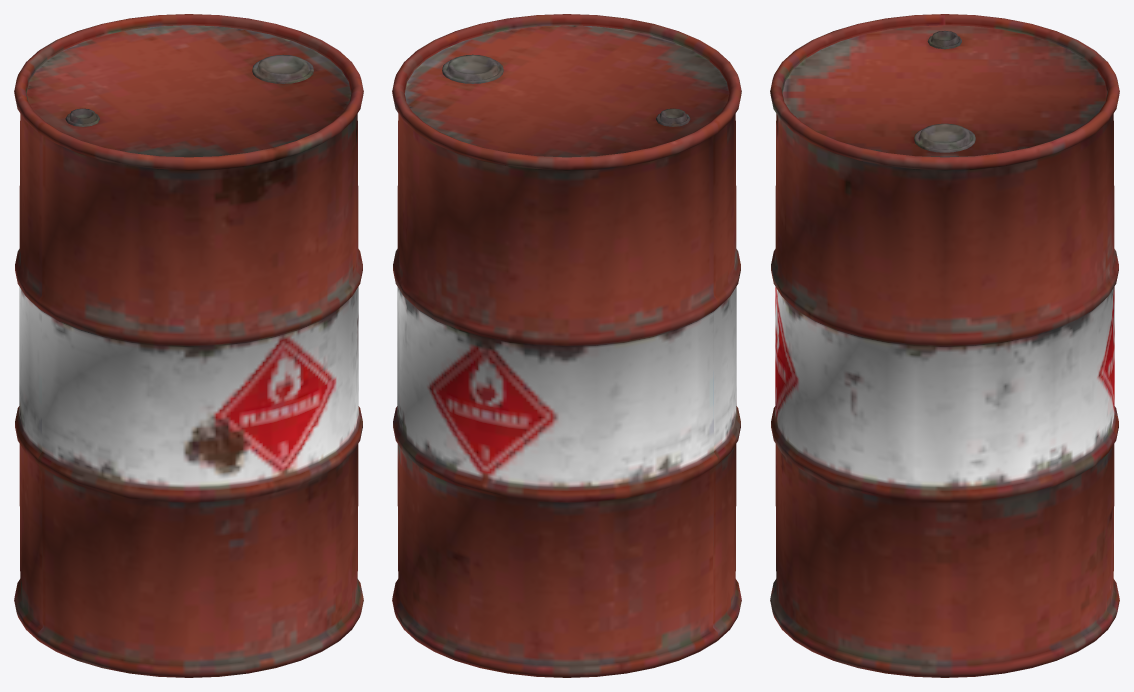
File: barrel.fbx
The picture shows the model from 3 angles, left to right: view 1: azimuth 30°, elevation 25°; view 2: azimuth 150°, elevation 25°; view 3: azimuth 270°, elevation 25°; orthographic projection.
Parts seen in each view (by area): view 1: barrel; view 2: barrel; view 3: barrel.
Boxes of the visible parts, x1,y1,x2,y2 form: barrel: (14,14,363,677); barrel: (392,14,741,677); barrel: (770,14,1119,677).
Bounding box in the file's own units: 252 × 414 × 252.
